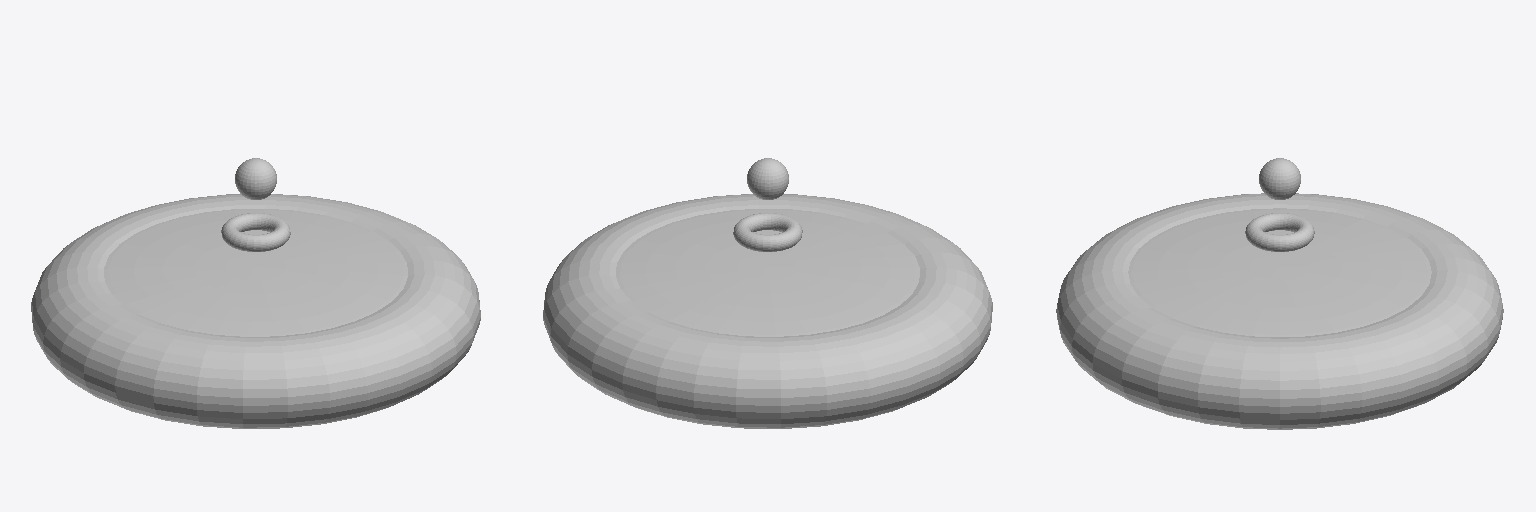
3 views of the same model, side by side, from view 1: azimuth 30°, elevation 25°; view 2: azimuth 150°, elevation 25°; view 3: azimuth 270°, elevation 25° (orthographic).
Visible parts, largest first — view 1: SurfTorus, SurfSphere.001, SurfTorus.001, SurfSphere; view 2: SurfTorus, SurfSphere.001, SurfTorus.001, SurfSphere; view 3: SurfTorus, SurfSphere.001, SurfTorus.001, SurfSphere.
Boxes of the visible parts, x1,y1,x2,y2 form: SurfTorus: [31, 194, 480, 428]; SurfSphere.001: [104, 209, 407, 336]; SurfTorus.001: [221, 213, 290, 251]; SurfSphere: [235, 158, 276, 199]; SurfTorus: [543, 194, 992, 428]; SurfSphere.001: [616, 209, 919, 336]; SurfTorus.001: [733, 213, 802, 251]; SurfSphere: [747, 158, 788, 199]; SurfTorus: [1056, 193, 1503, 429]; SurfSphere.001: [1128, 208, 1431, 336]; SurfTorus.001: [1245, 213, 1314, 251]; SurfSphere: [1259, 158, 1300, 199].
Size of the model in its own units: 33.25 by 15.56 by 32.91.